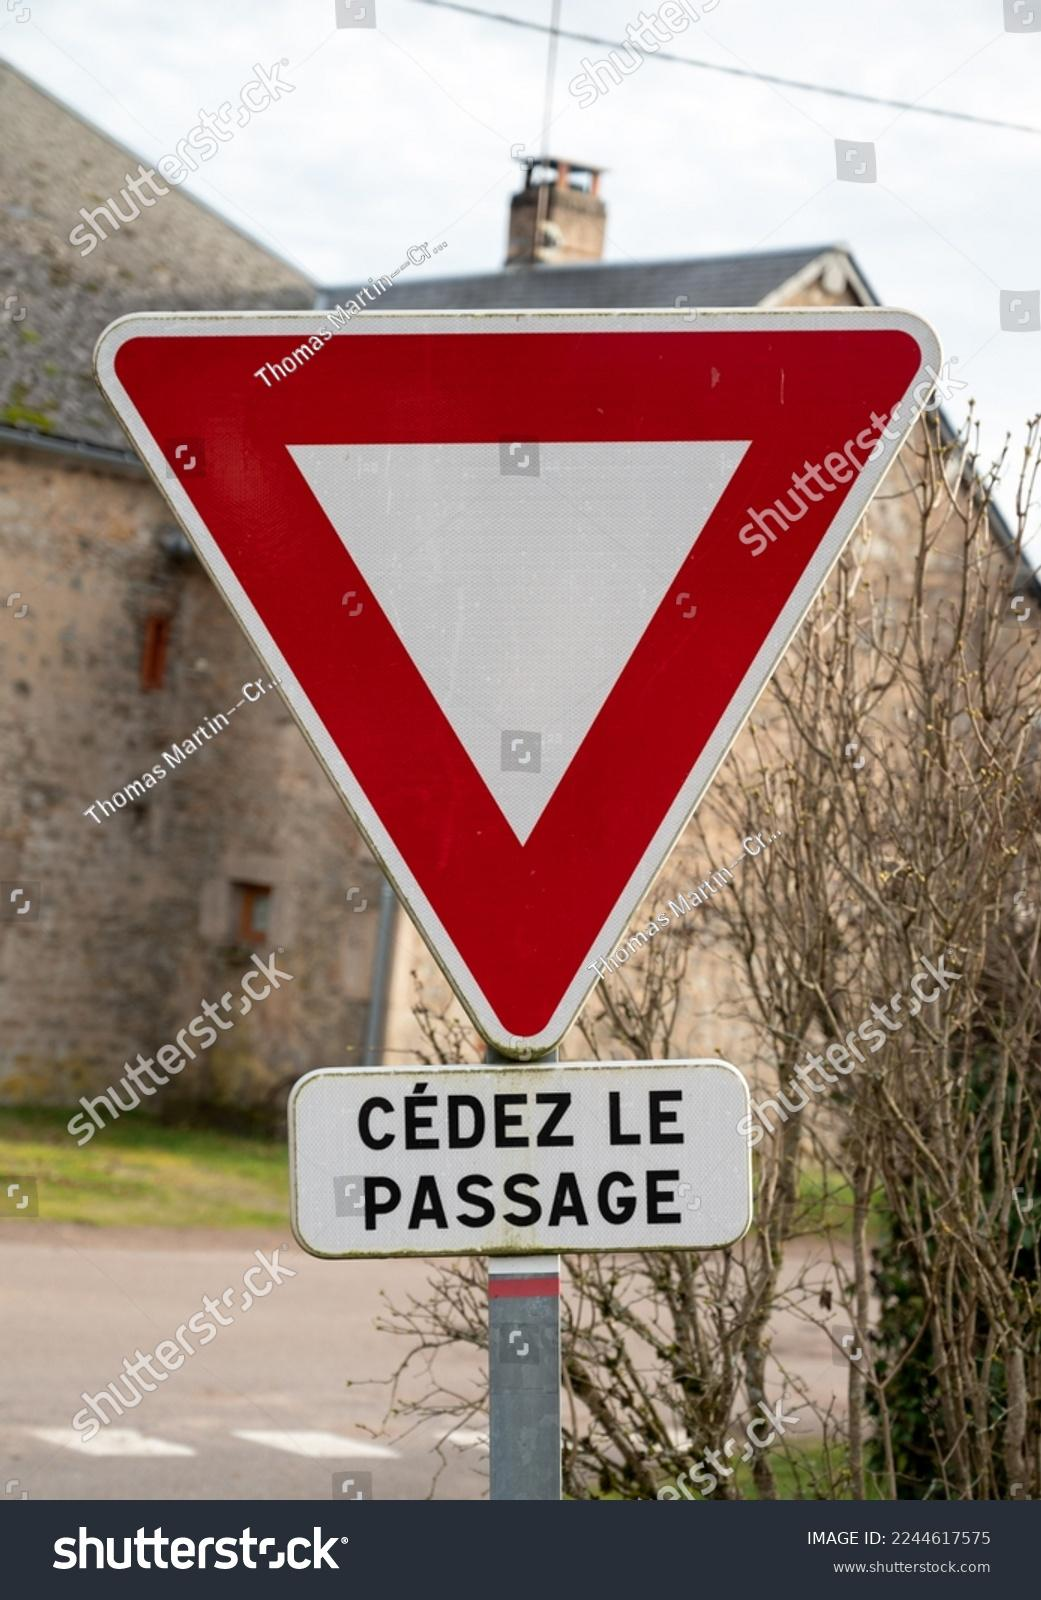Give Way: (114, 234, 1021, 1031)
